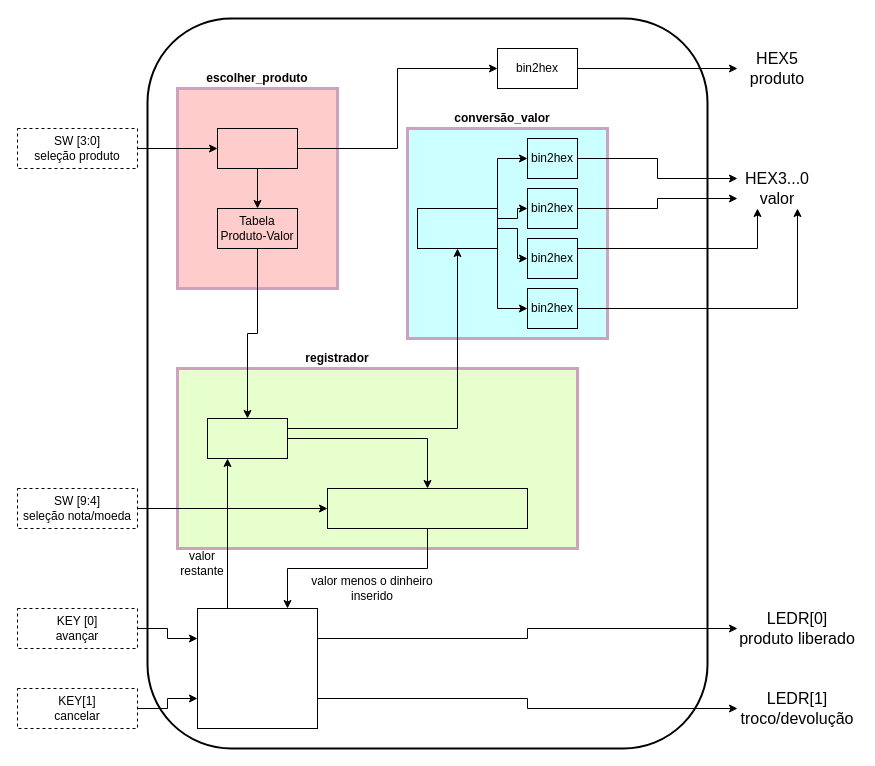
This 875x766 diagram has some shape labels left out. The centre of each missing label's shape, as x and y in pixels:
"bin2BCD" belongs at point 457,228.
"Máquina de Controle" belongs at point 257,668.
"Produto" belongs at point 257,148.
"Subtract_input_from_value" belongs at point 427,508.
"Valor" belongs at point 247,438.
